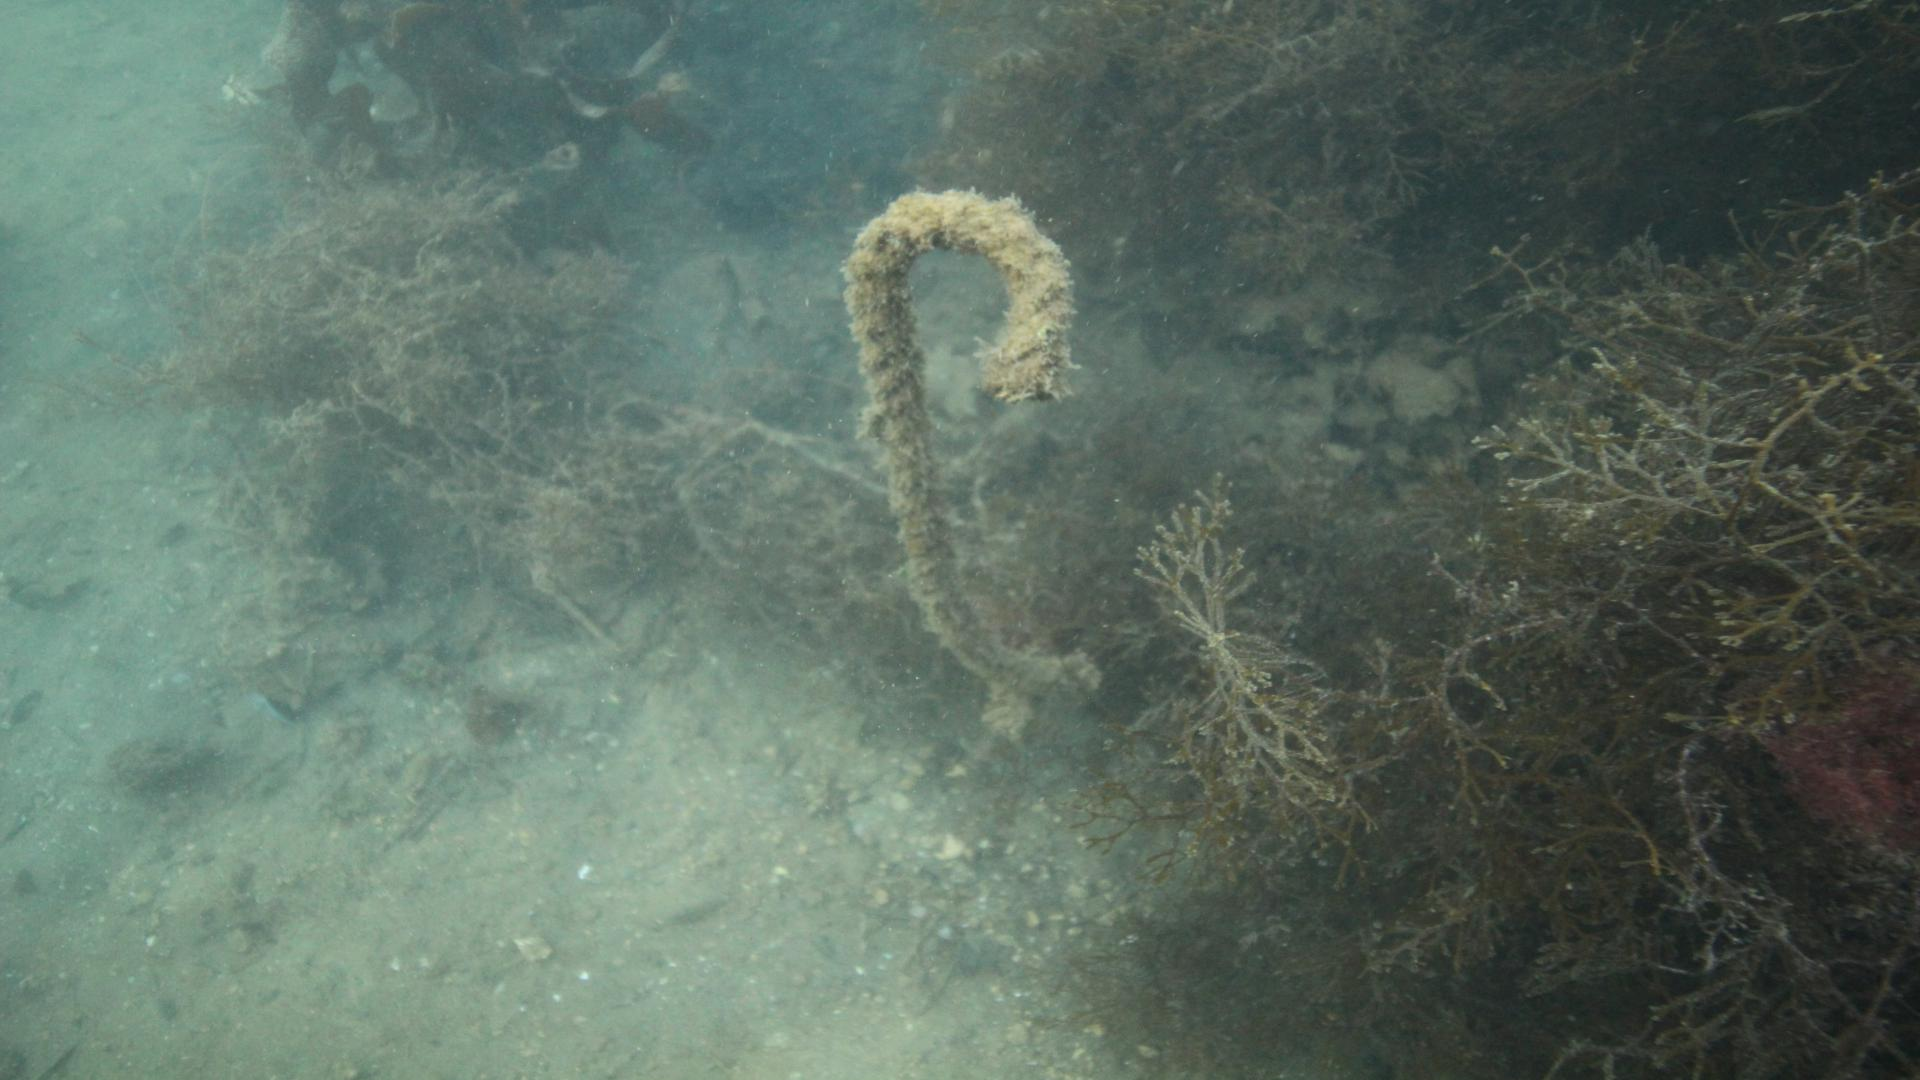rope: (840, 185, 1106, 702)
